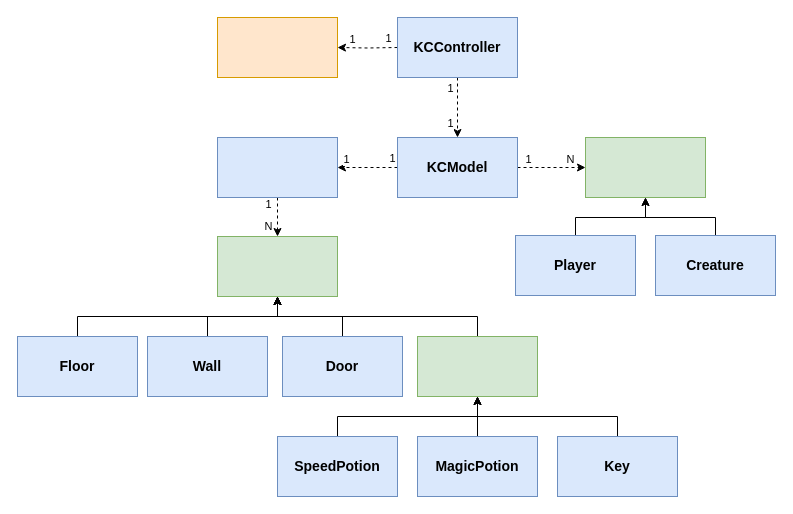
Some shapes in this 793 by 514 pixel diagram are drawn without their labels. Here are the shapes that lost their labels. From the top down, the centre of each, then its label:
the point at 277,47: KCView
the point at 277,167: Dungeon
the point at 645,167: Entity
the point at 277,266: Tile
the point at 477,366: Item
